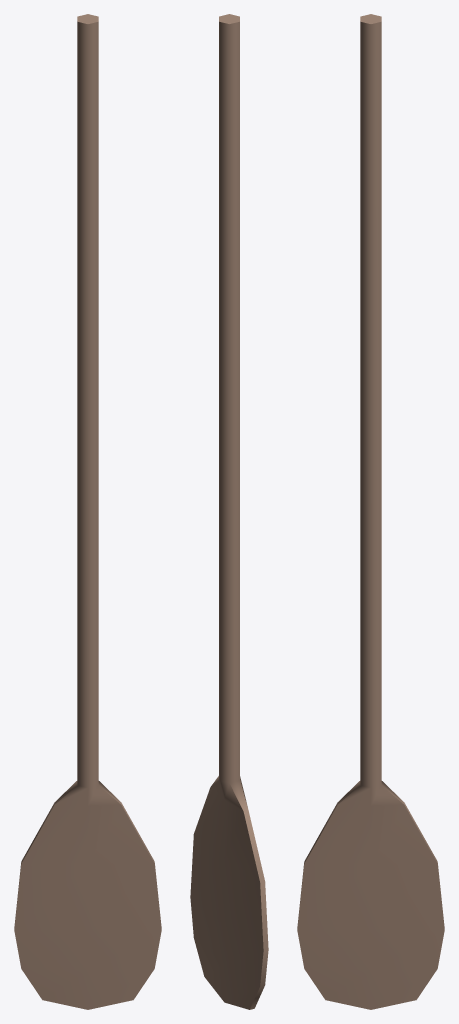
Rendered from mdl_canoePedal01.fbx.
3 views of the same model, side by side, from view 1: azimuth 90°, elevation 25°; view 2: azimuth 210°, elevation 25°; view 3: azimuth 270°, elevation 25° (orthographic).
Visible parts, largest first — view 1: mdl_canoePedal02; view 2: mdl_canoePedal02; view 3: mdl_canoePedal02.
Part boxes in pixels (bbox=[...]): mdl_canoePedal02: bbox=[14, 14, 161, 1009]; mdl_canoePedal02: bbox=[190, 14, 268, 1009]; mdl_canoePedal02: bbox=[297, 14, 444, 1009].
Bounding box in the file's own units: 1.16 × 52.03 × 7.03.
1 material, 1 textured.
